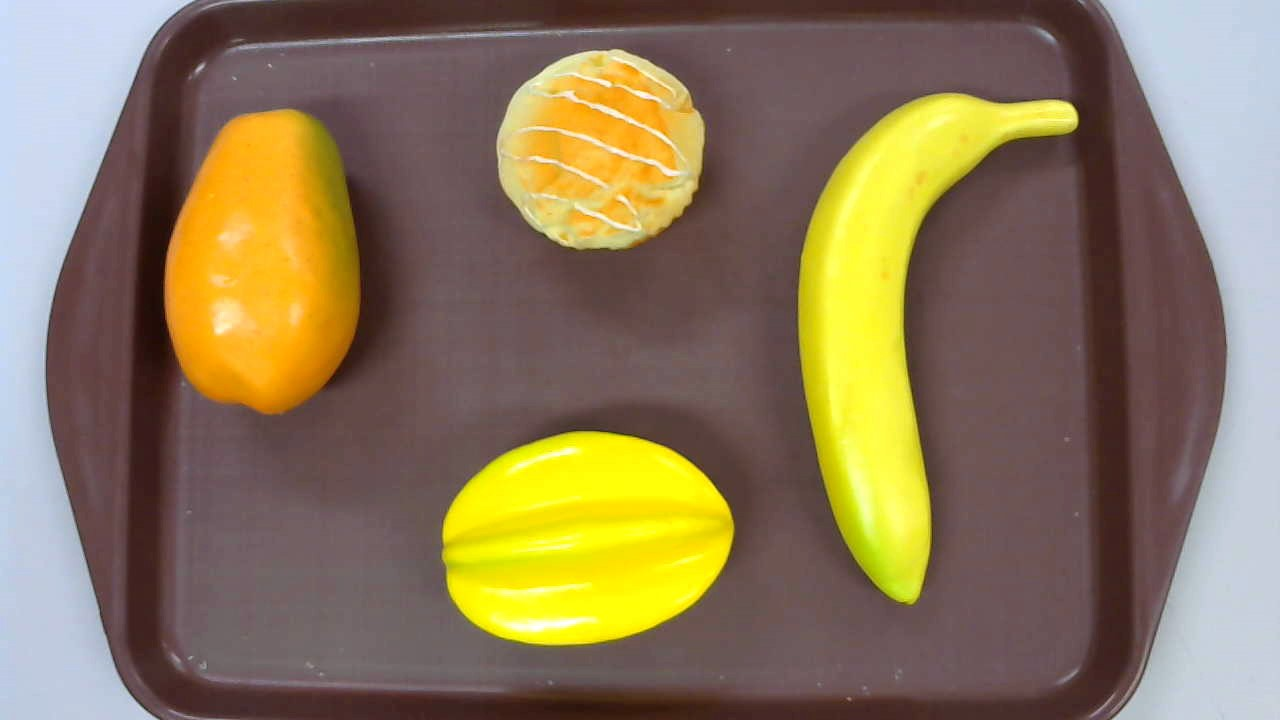banana: (797, 92, 1079, 608)
cupcake: (497, 49, 707, 252)
papya: (163, 108, 360, 416)
star fruit: (441, 429, 735, 646)
